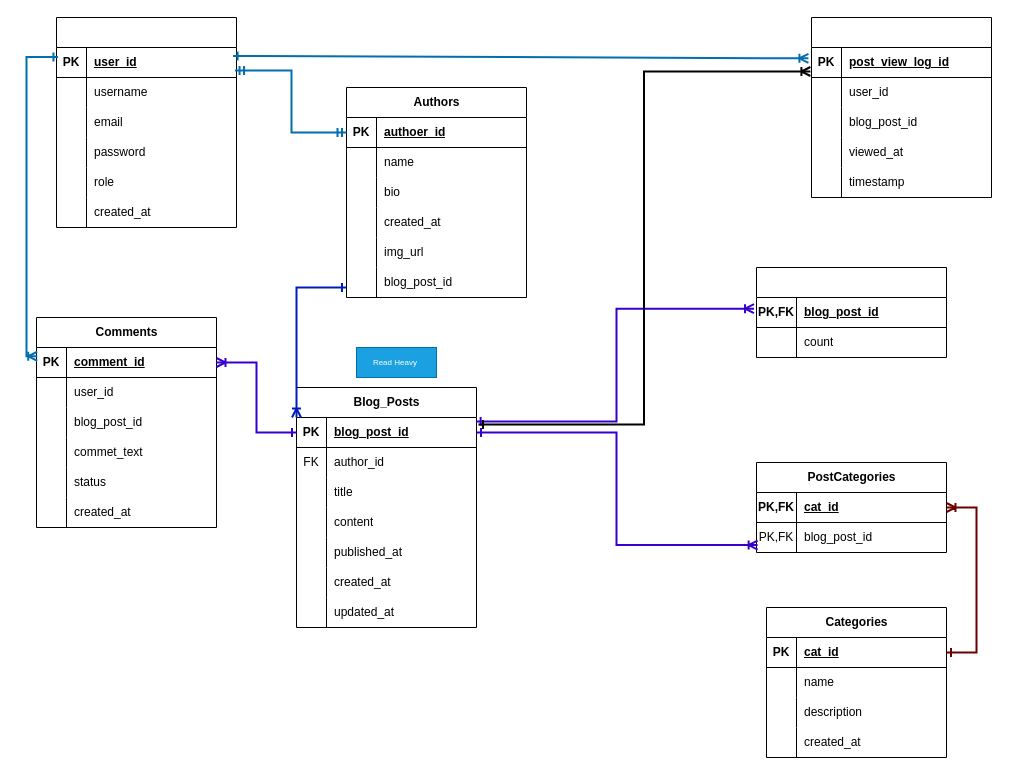
Some shapes in this 1009 by 775 pixel diagram are drawn without their labels. Each missing label, with the box of its shape:
post_view_count: (756, 266, 946, 358)
PostViewLogs: (810, 16, 992, 198)
Users: (56, 16, 236, 228)
